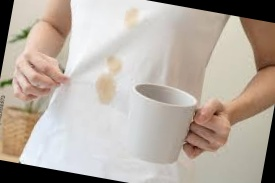coffee: (93, 72, 118, 107), (122, 6, 142, 31), (103, 55, 124, 76)
